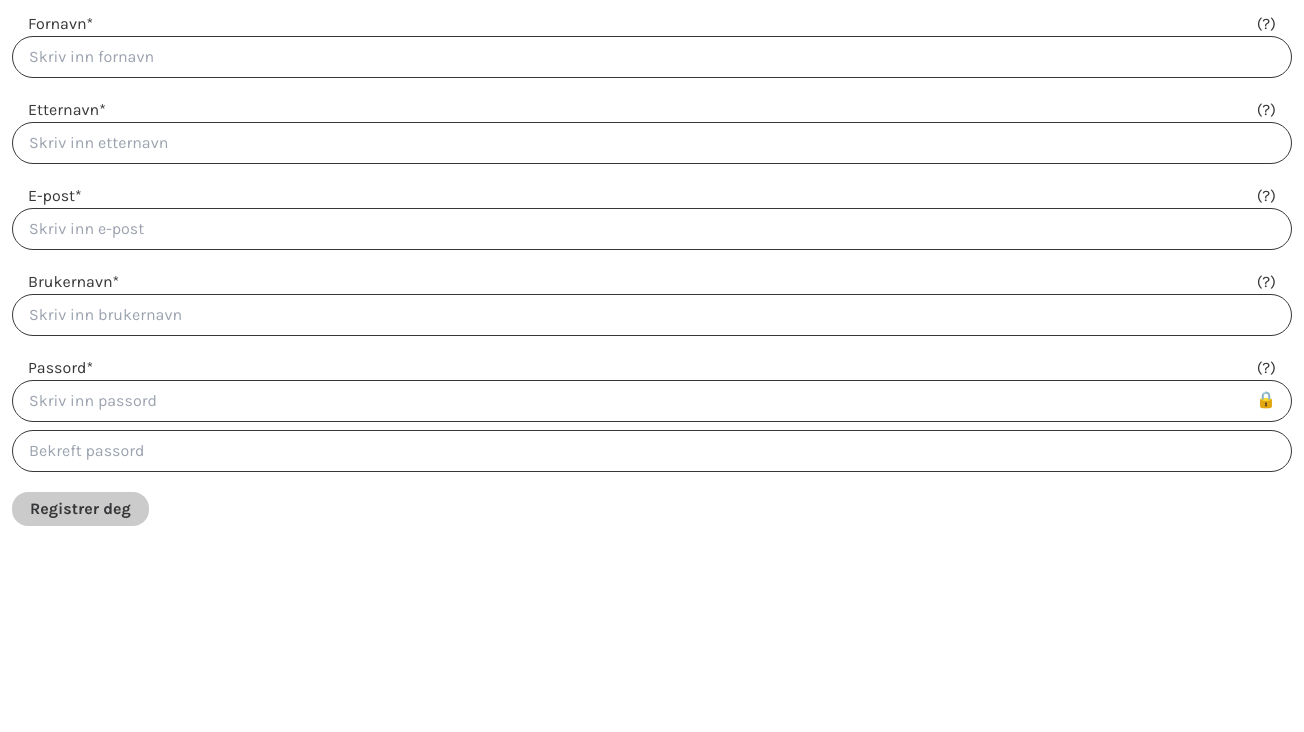
Test: FormRegister › enables button when all inputs are filled
In the field named "firstName": point(652, 57) x1=12 y1=36 x2=1292 y2=78, type "firstName"
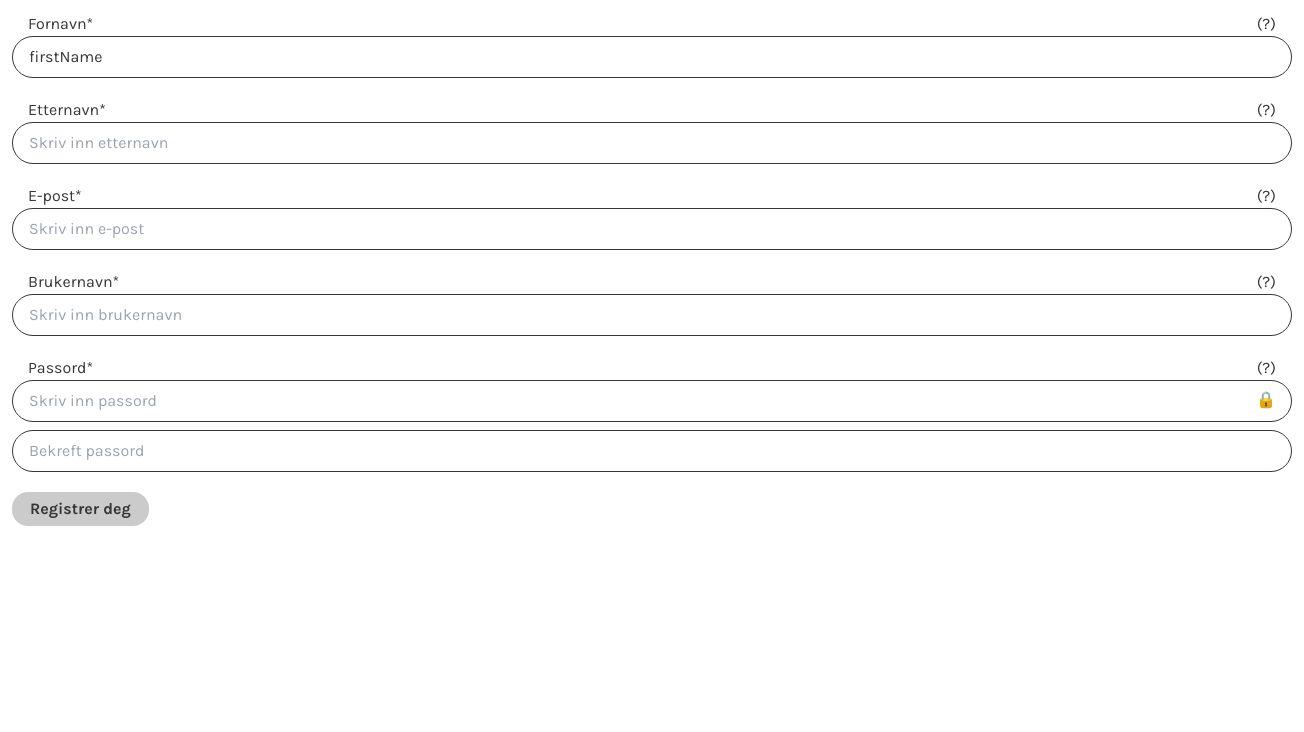
In the field named "lastName": point(652, 143) x1=12 y1=122 x2=1292 y2=164, type "lastName"
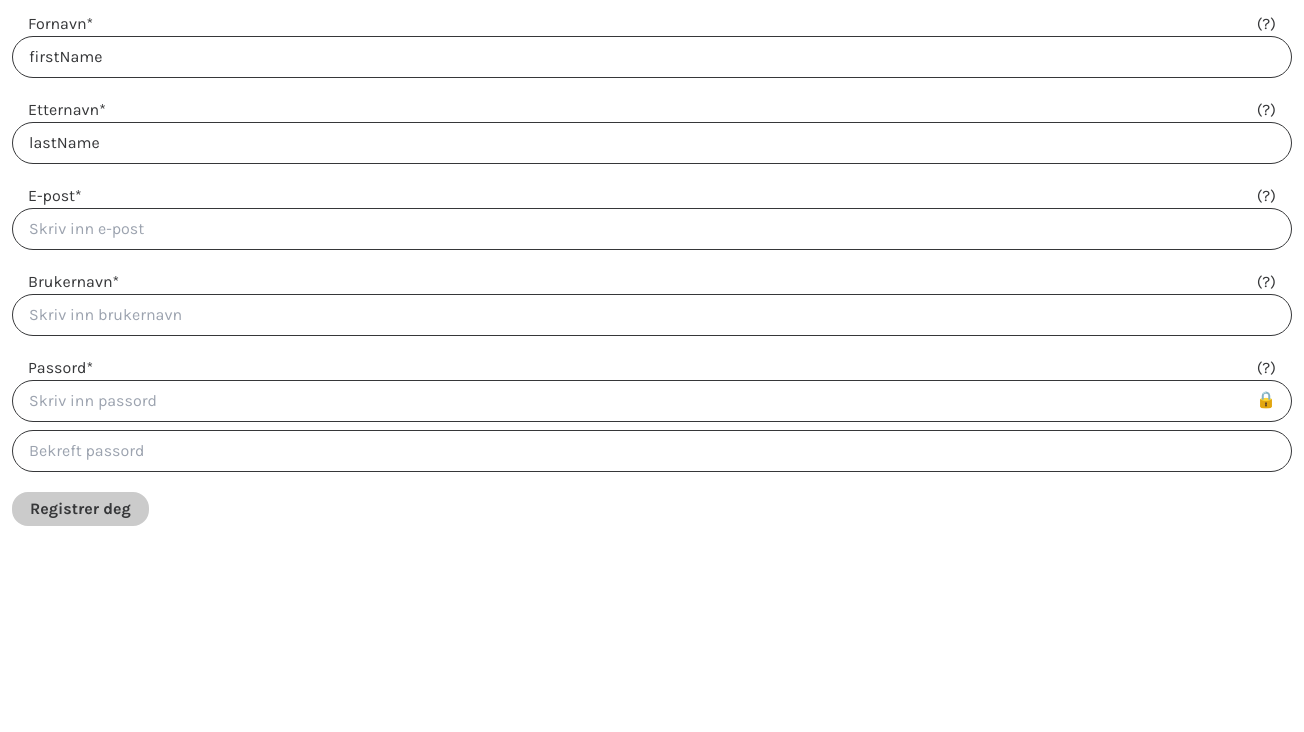
In the field named "email": point(652, 229) x1=12 y1=208 x2=1292 y2=250, type "email@test.work"
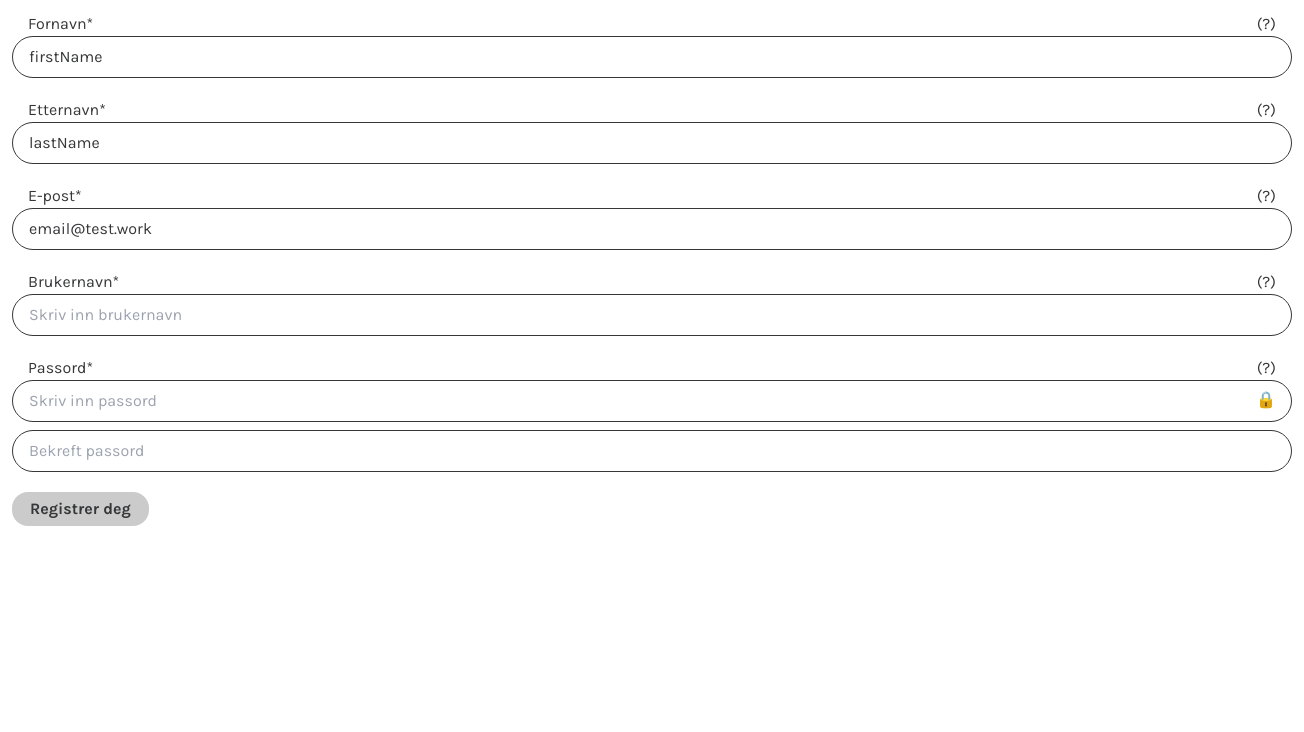
In the field named "username": point(652, 315) x1=12 y1=294 x2=1292 y2=336, type "username"
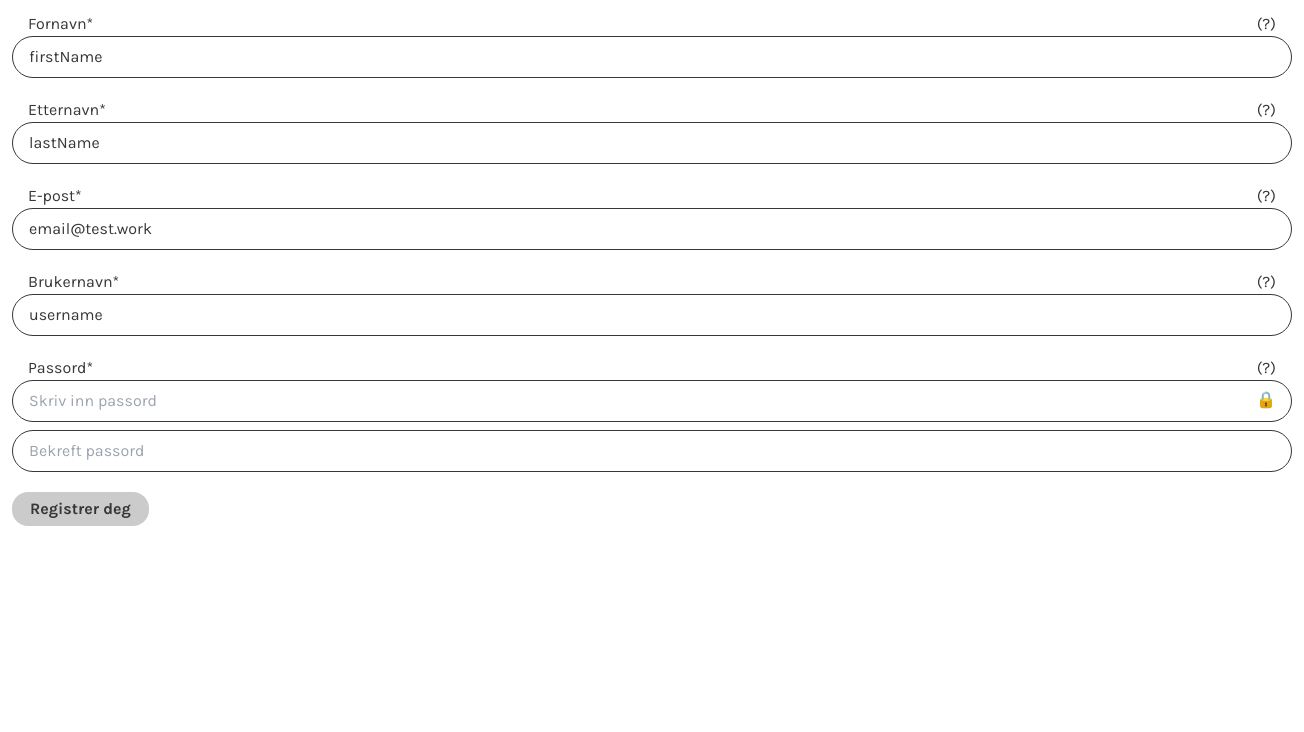
In the password field named "password": point(652, 401) x1=12 y1=380 x2=1292 y2=422, type "Password123!"
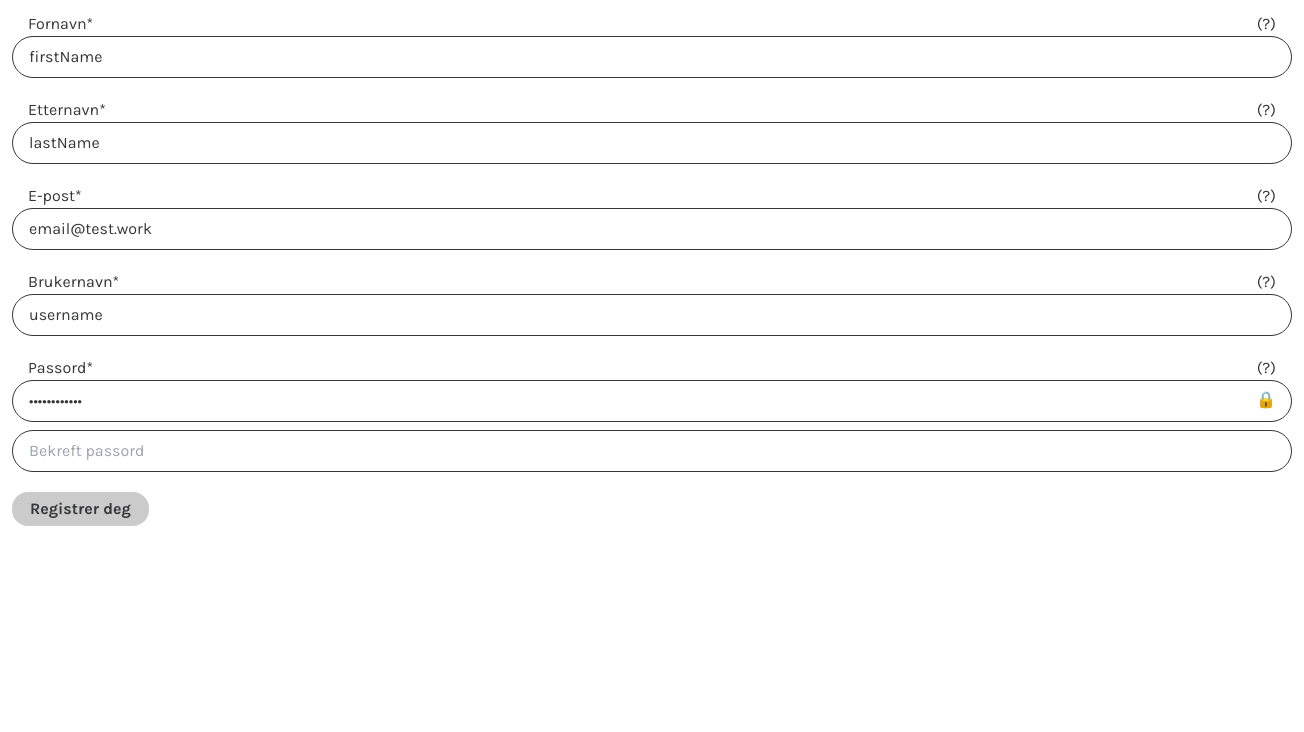
In the password field named "confirm": point(652, 451) x1=12 y1=430 x2=1292 y2=472, type "Password123!"
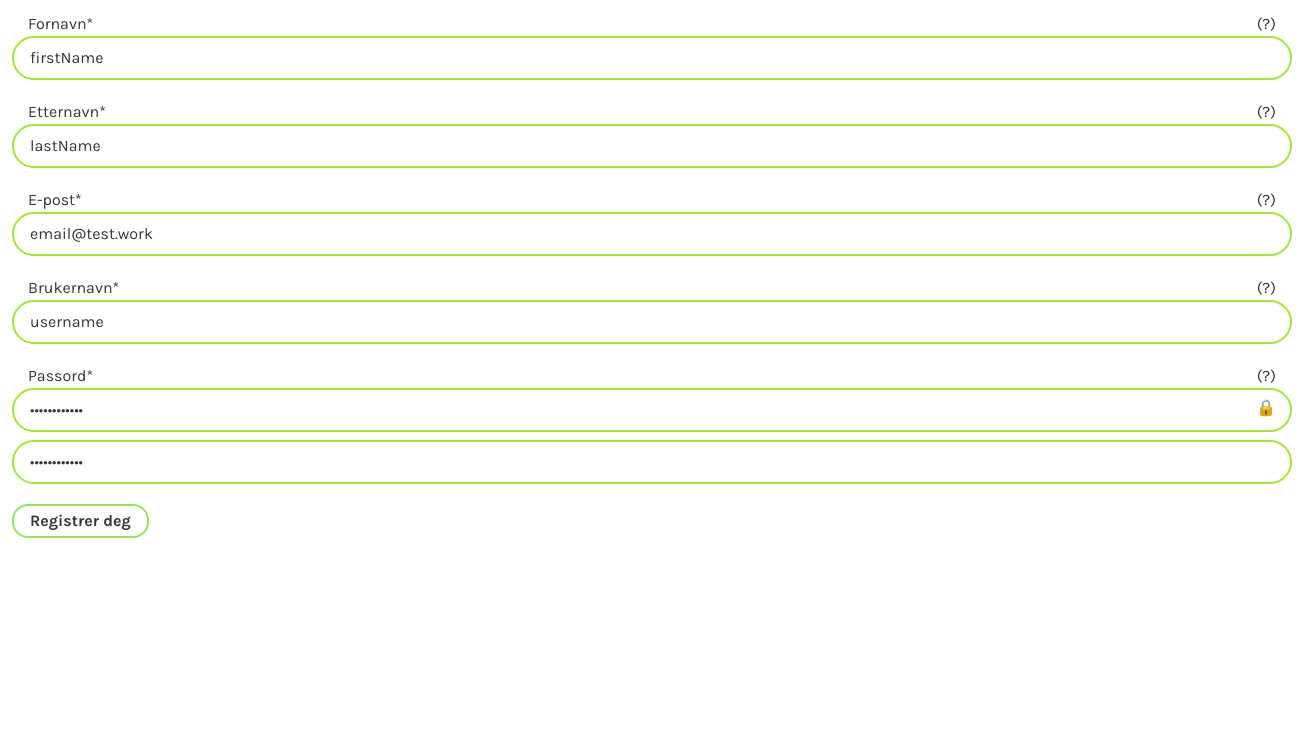
Check: the button named "submit" is enabled, box x1=12 y1=504 x2=149 y2=538
